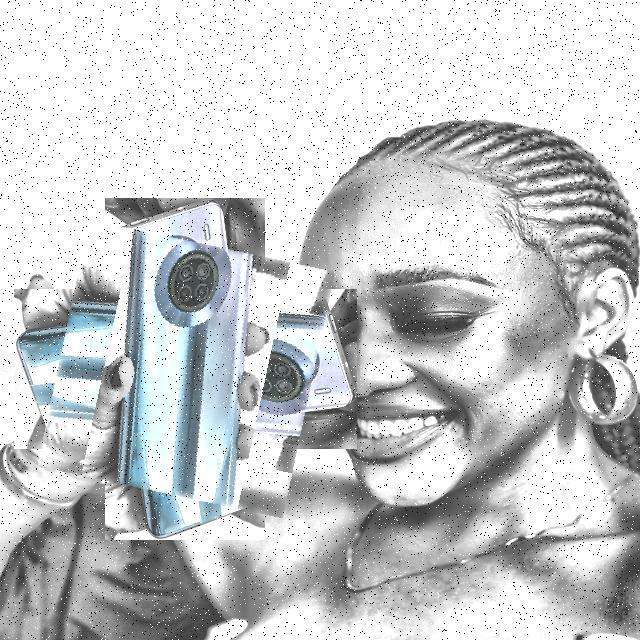Phone: (49, 232, 322, 506)
